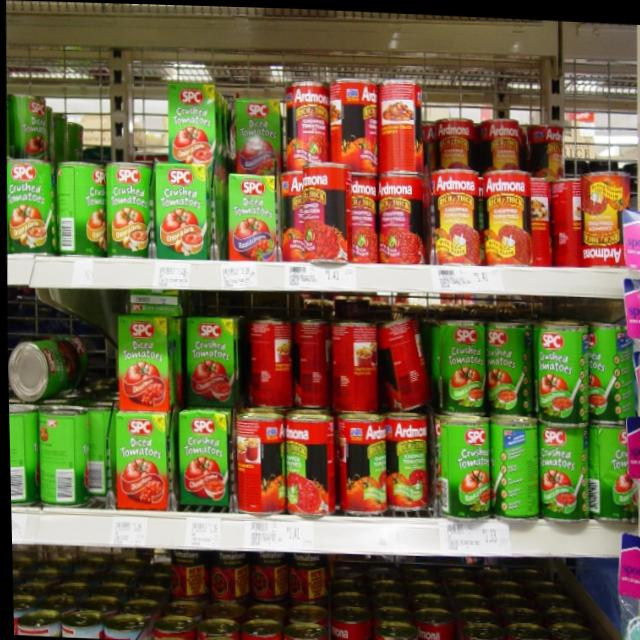q193: (166, 78, 227, 172), (536, 316, 589, 423), (491, 407, 539, 519), (6, 155, 60, 253), (437, 320, 489, 417), (437, 420, 491, 513), (534, 421, 584, 515), (106, 152, 155, 246), (160, 160, 210, 252), (585, 316, 626, 412), (587, 424, 631, 511), (492, 320, 530, 407)
